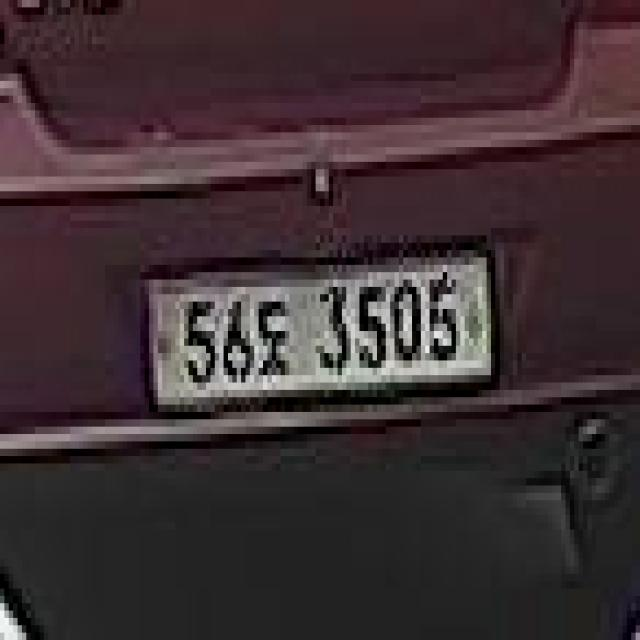illegal_plate: (140, 248, 504, 418)
